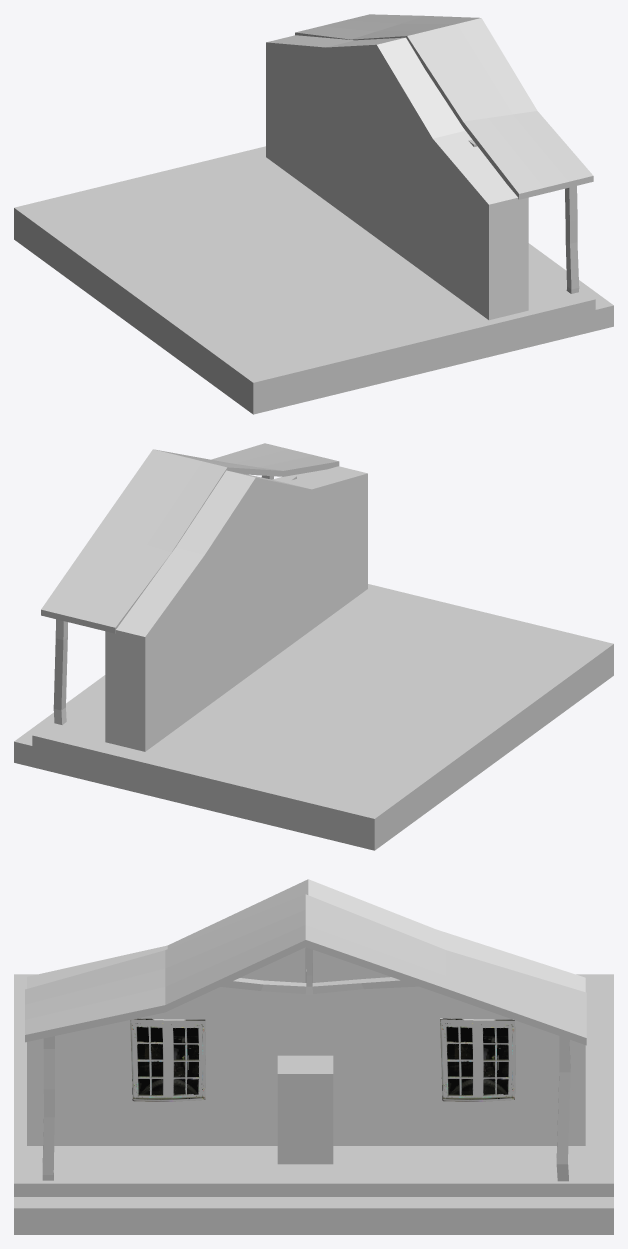
File: office+window.fbx
3 renders of one model, top to bottom at view 1: azimuth 30°, elevation 25°; view 2: azimuth 150°, elevation 25°; view 3: azimuth 270°, elevation 25°, orthographic. The views are drawn at different scales.
Parts seen in each view (by area): view 1: Cube.005, Cube.039, Cube.009, Cube.010; view 2: Cube.005, Cube.039, Cube.009, Cube.010; view 3: Cube.039, Cube.005, Cube.009, Cube.003, окно.001, окно.005, Cube.010, Cube.050.
Boxes of the visible parts, x1,y1,x2,y2 form: Cube.005: (14,146,613,414); Cube.039: (266,35,528,320); Cube.009: (295,14,593,199); Cube.010: (565,186,579,293); Cube.005: (14,584,613,850); Cube.039: (105,466,367,751); Cube.009: (41,443,339,633); Cube.010: (53,475,273,724); Cube.039: (27,879,585,1145); Cube.005: (14,974,613,1234); Cube.009: (25,894,586,1045); Cube.003: (277,1055,333,1164); окно.001: (440,1018,515,1101); окно.005: (130,1018,205,1101); Cube.010: (42,1036,570,1181); Cube.050: (221,947,418,994).
Size of the model in its own units: 1784 by 1075 by 2050.
